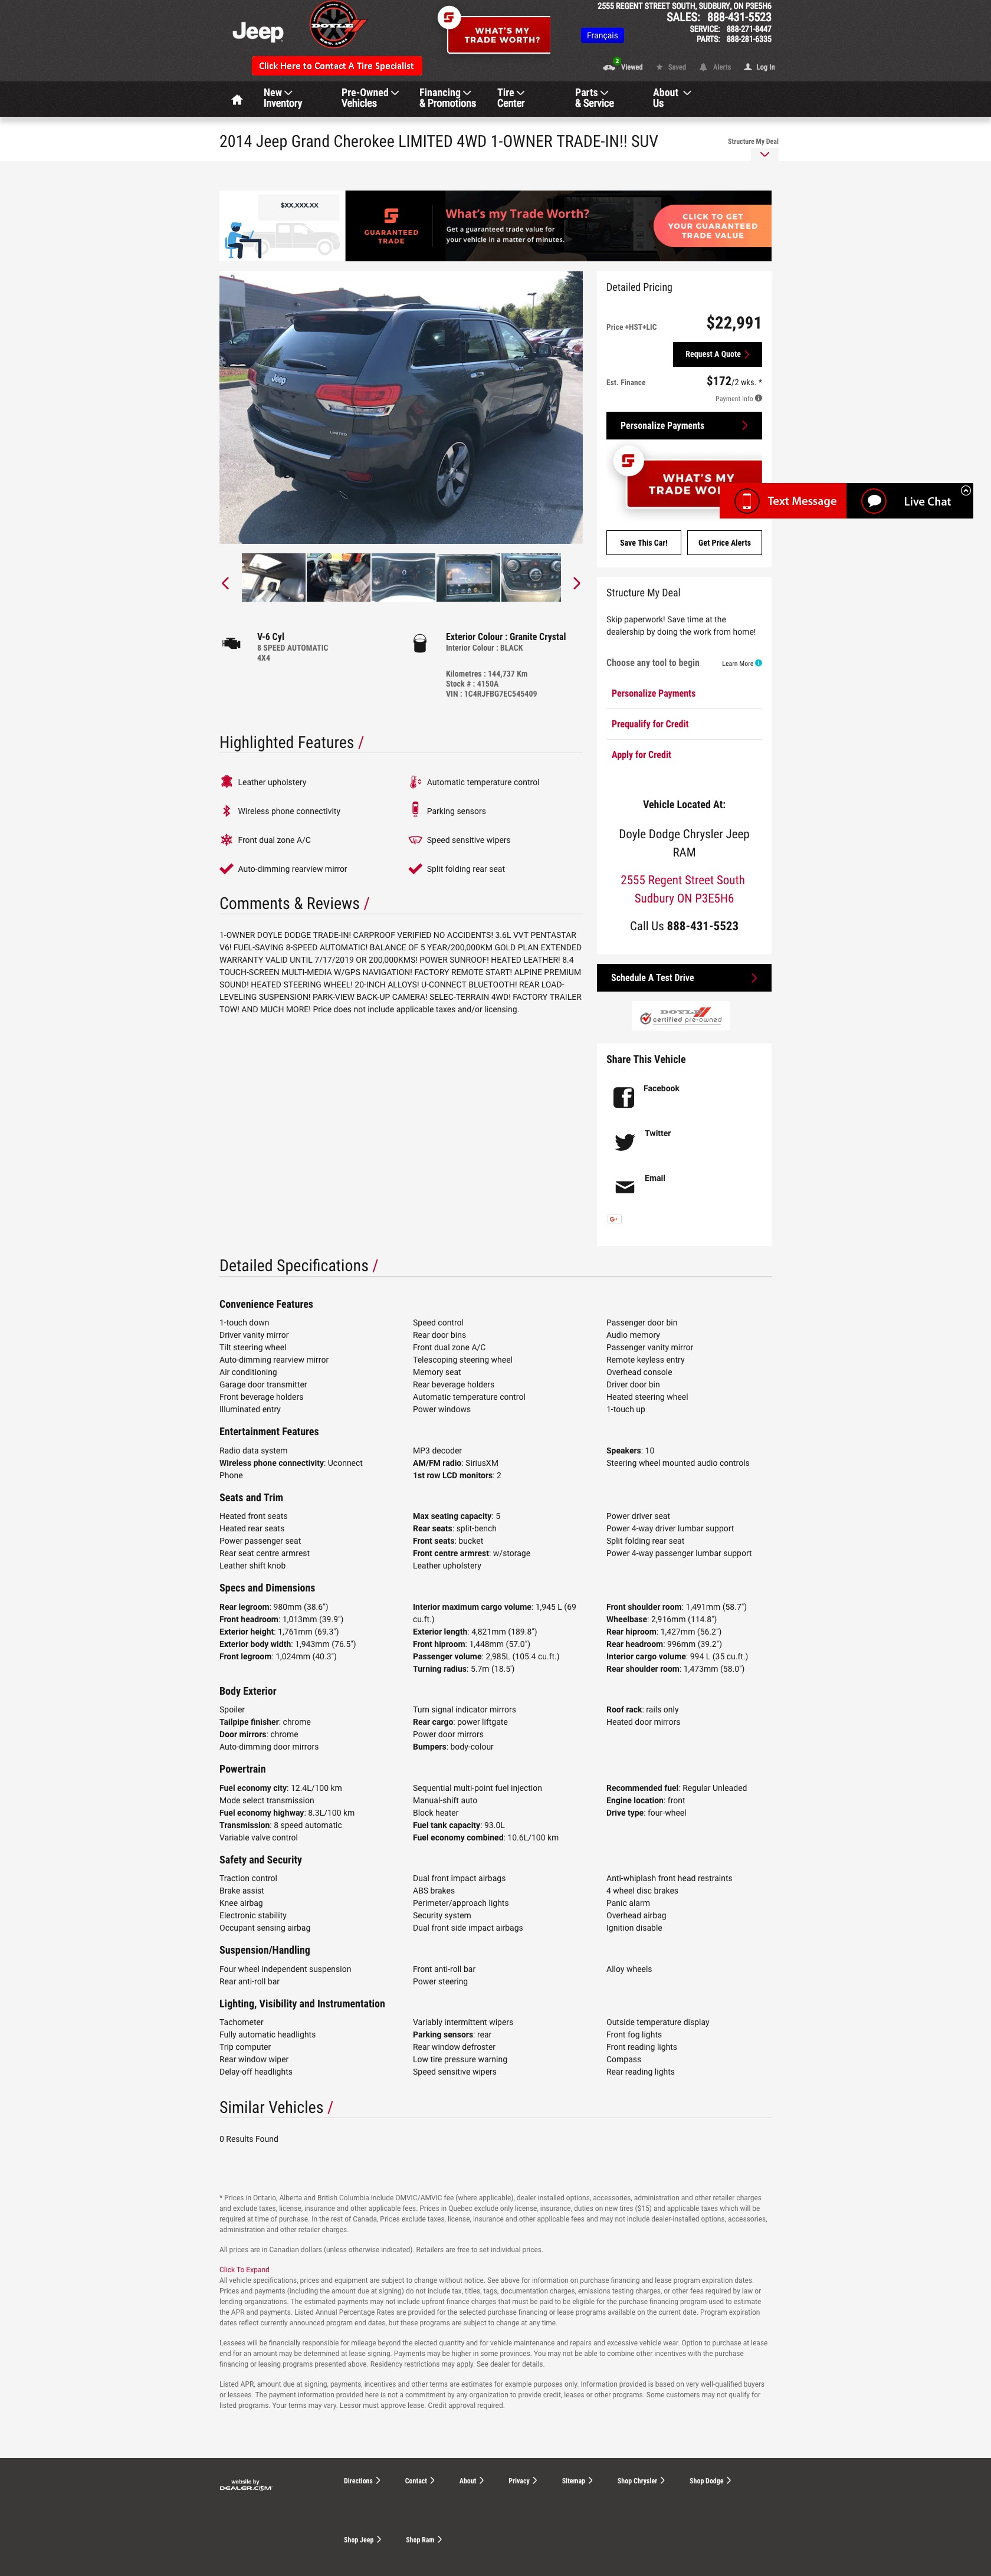car: (574, 577, 582, 590)
